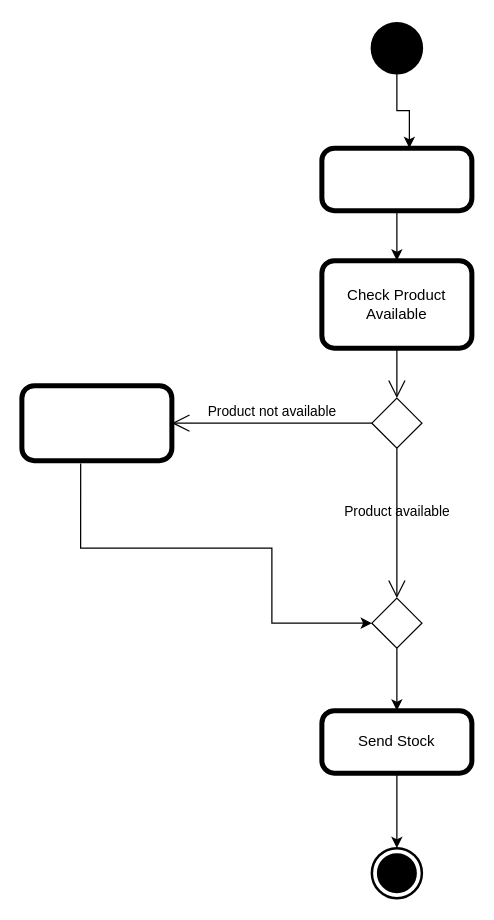
Image size: 494x920. Some labels were removed from this diagram. The shapes that lost their labels are listed below. From the top down, each one's box as (x1, y1, x2, y2) in pixels, then its label:
(321, 147, 472, 211): View Order
(21, 384, 172, 461): Manufacture Product
